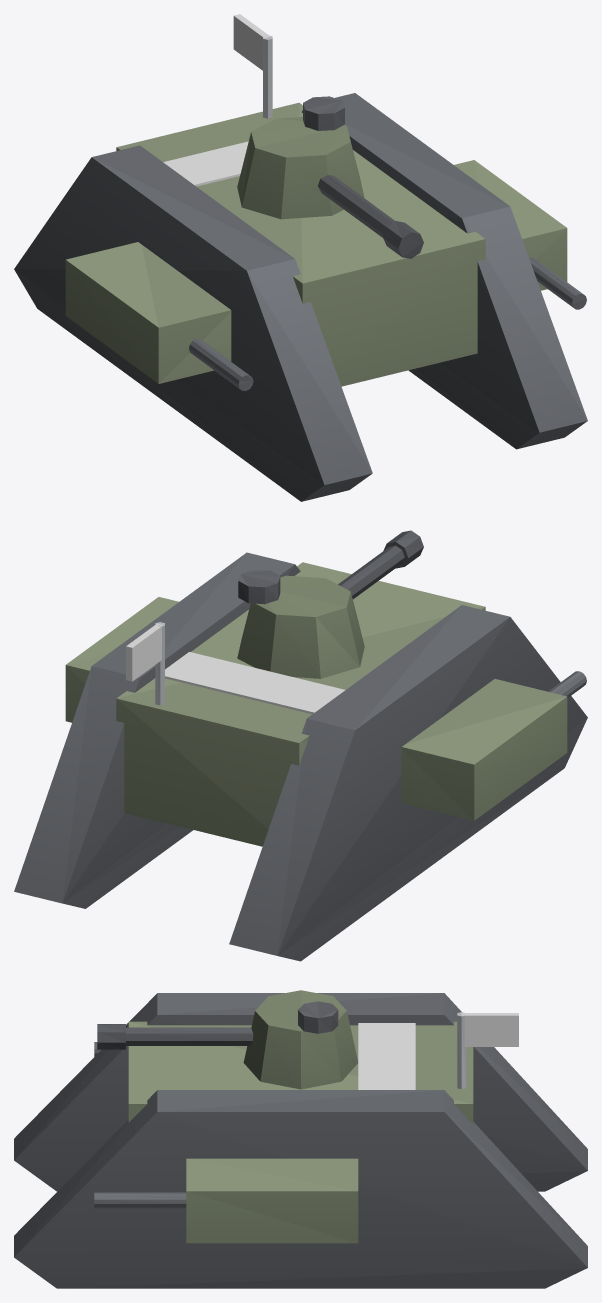
The model's file is Landship.glb.
3 renders of one model, top to bottom at view 1: azimuth 30°, elevation 25°; view 2: azimuth 150°, elevation 25°; view 3: azimuth 270°, elevation 25°, orthographic. The views are drawn at different scales.
Parts seen in each view (by area): view 1: Body, Part1, Part2; view 2: Body, Part1, Part2; view 3: Body, Part1, Part2.
Part boxes in pixels (x1,y1,x2,y2): Body: (14, 14, 587, 501); Part1: (237, 96, 364, 219); Part2: (318, 175, 423, 258); Body: (14, 552, 587, 961); Part1: (237, 569, 364, 678); Part2: (338, 530, 423, 599); Body: (14, 993, 587, 1288); Part1: (243, 990, 358, 1089); Part2: (97, 1024, 253, 1049).
Size of the model in its own units: 0.76 by 0.46 by 1.
